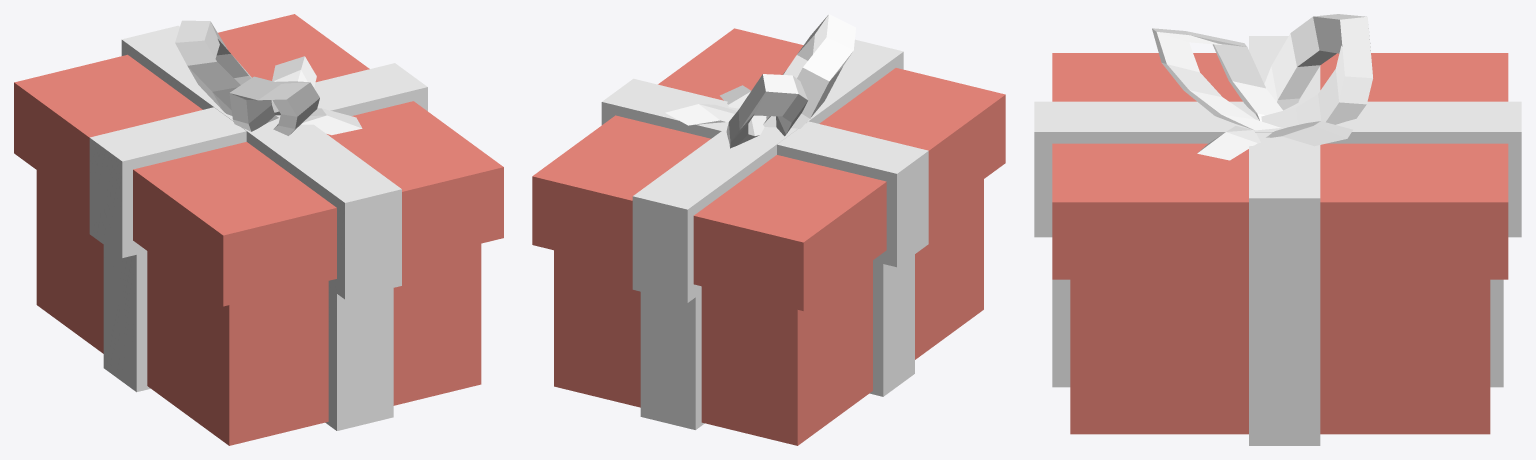
Rendered from Gift_wide.glb.
3 views of the same model, side by side, from view 1: azimuth 30°, elevation 25°; view 2: azimuth 150°, elevation 25°; view 3: azimuth 270°, elevation 25° (orthographic). The views are drawn at different scales.
Visible parts, largest first — view 1: gift_wide; view 2: gift_wide; view 3: gift_wide.
Part boxes in pixels (box(x1,y1,x2,y2)): gift_wide: box(14, 14, 503, 445); gift_wide: box(532, 14, 1005, 445); gift_wide: box(1034, 14, 1521, 445).
Size of the model in its own units: 0.86 by 0.8405 by 1.09.
